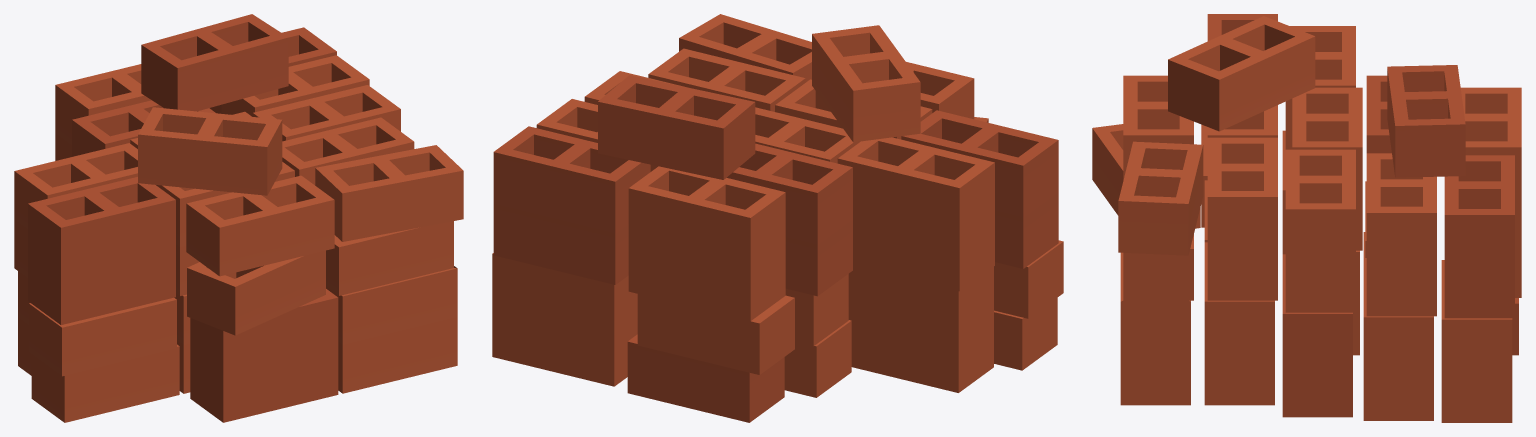
Rendered from Bricks_1_4.glb.
The picture shows the model from 3 angles, left to right: view 1: azimuth 30°, elevation 25°; view 2: azimuth 150°, elevation 25°; view 3: azimuth 270°, elevation 25°; orthographic projection. The views are drawn at different scales.
Visible parts, largest first — view 1: Bricks_1_4; view 2: Bricks_1_4; view 3: Bricks_1_4.
Boxes of the visible parts, x1,y1,x2,y2 form: Bricks_1_4: (14,14,463,422); Bricks_1_4: (492,14,1063,422); Bricks_1_4: (1092,14,1521,422).
Bounding box in the file's own units: 1.19 × 0.7091 × 1.07.
Materials: 1 (1 with a texture image).
